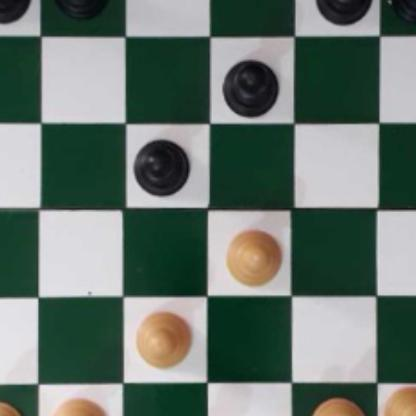black-pawn: (222, 53, 281, 115), (133, 137, 188, 195), (315, 0, 371, 24), (53, 0, 108, 17), (0, 0, 29, 22), (392, 0, 416, 20)
white-pawn: (133, 306, 194, 369), (222, 226, 283, 287), (47, 394, 108, 416), (308, 396, 367, 416), (385, 385, 416, 416), (0, 399, 24, 416)
